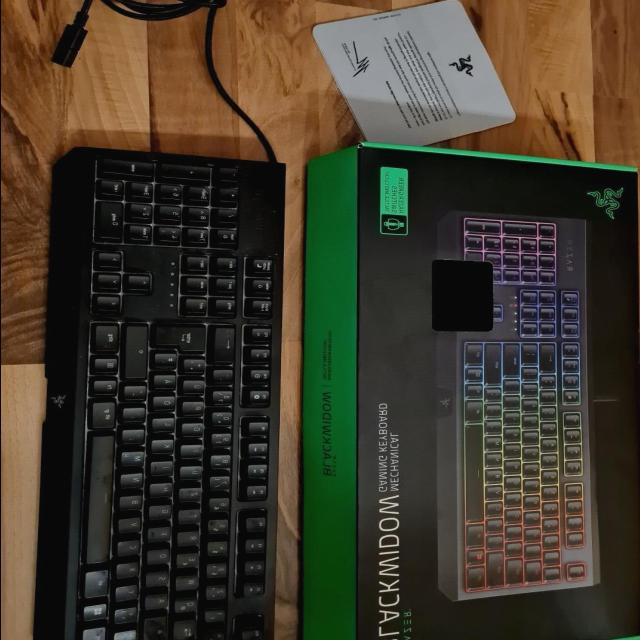0: (213, 413, 235, 429)
1: (205, 609, 229, 625)
2: (207, 586, 229, 602)
3: (208, 564, 230, 580)
4: (209, 542, 231, 558)
5: (210, 520, 232, 536)
6: (210, 499, 232, 514)
7: (210, 477, 234, 493)
8: (211, 456, 235, 472)
9: (213, 434, 235, 450)
a: (146, 595, 172, 611)
accent: (215, 371, 237, 387)
ae: (155, 376, 180, 392)
alt-left: (86, 571, 112, 601)
altgr-right: (93, 403, 119, 431)
b: (121, 497, 146, 513)
c: (118, 541, 144, 558)
caret: (206, 631, 228, 640)
comma: (123, 431, 148, 447)
d: (148, 551, 173, 567)
del: (216, 329, 238, 366)
e: (178, 554, 202, 570)
enter: (155, 327, 210, 355)
f: (149, 528, 174, 544)
g: (150, 506, 174, 522)
h: (151, 484, 175, 500)
hash: (156, 355, 181, 371)
i: (182, 446, 206, 462)
j: (151, 463, 176, 479)
k: (153, 441, 178, 457)
keyboard: (30, 144, 291, 640), (431, 210, 601, 604)
l: (153, 419, 178, 435)
less: (115, 609, 141, 627)
m: (122, 453, 148, 469)
minus: (125, 387, 149, 403)
n: (121, 475, 146, 491)
o: (183, 424, 207, 440)
oe: (154, 398, 179, 414)
p: (183, 403, 207, 419)
plus: (185, 360, 209, 376)
point: (125, 409, 149, 425)
q: (177, 599, 201, 615)
r: (179, 533, 203, 549)
s: (147, 573, 172, 589)
shift-left: (115, 631, 139, 640)
shift-lock: (145, 617, 170, 640)
shift-right: (126, 327, 150, 381)
space: (87, 436, 117, 566)
ss: (214, 392, 236, 408)
strg-left: (84, 628, 109, 640)
strg-right: (96, 325, 122, 355)
t: (180, 511, 204, 526)
tab: (175, 621, 199, 640)
u: (182, 467, 206, 483)
ue: (184, 381, 208, 397)
v: (120, 519, 145, 535)
w: (177, 577, 201, 592)
x: (117, 564, 143, 580)
y: (117, 586, 142, 603)
z: (181, 489, 205, 505)
